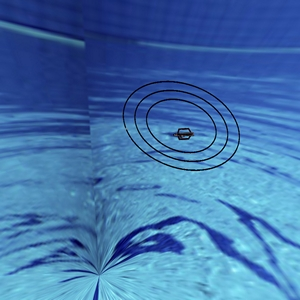circle: (105, 63, 262, 187)
submarine: (169, 123, 197, 145)
